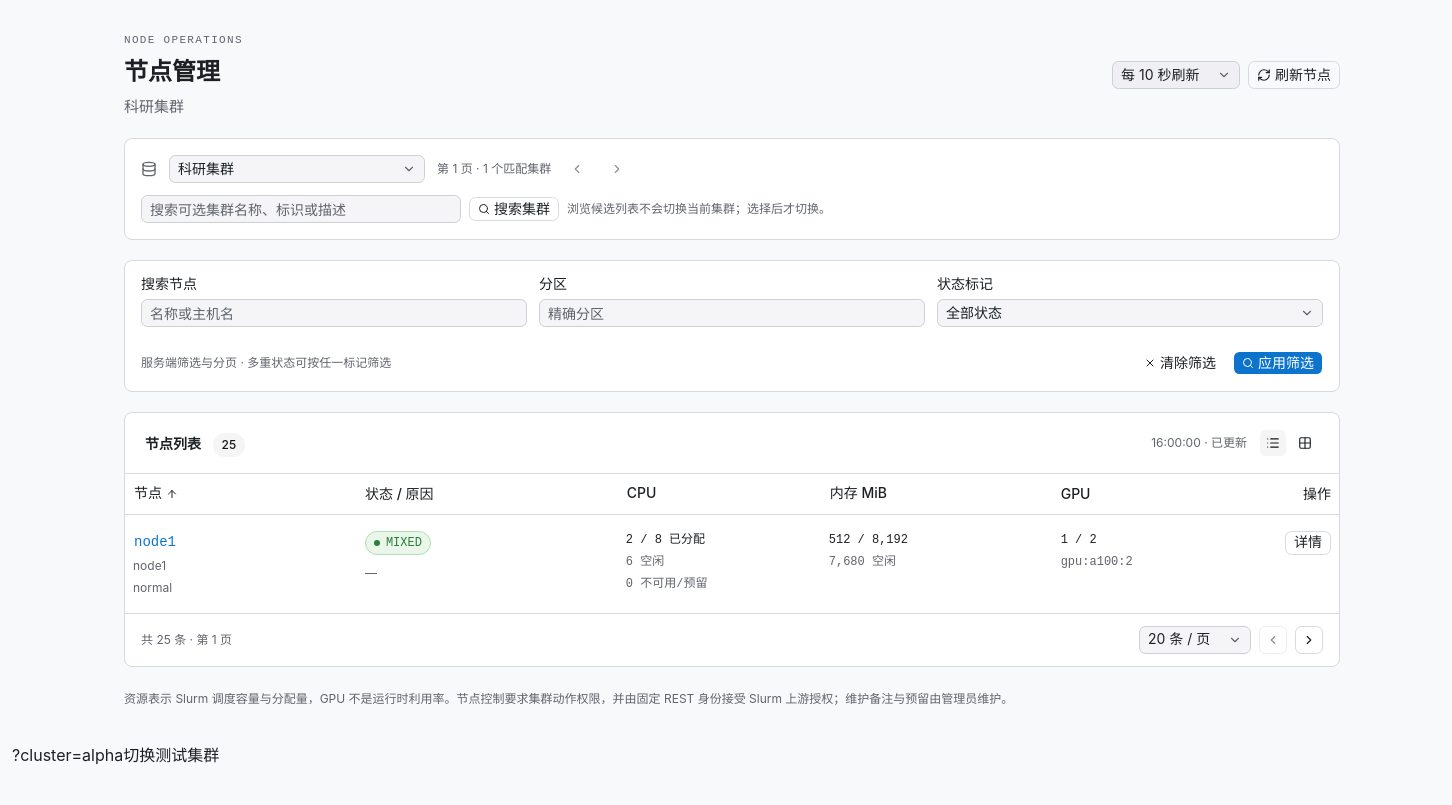
筛选、分页及矩阵视图同步 URL，Viewer 不显示控制入口
expect the button "node1" is shown: met, box [133,530,177,552]
Click the button named "下一页节点". click: [1309, 640]
box: [1295,626,1323,654]
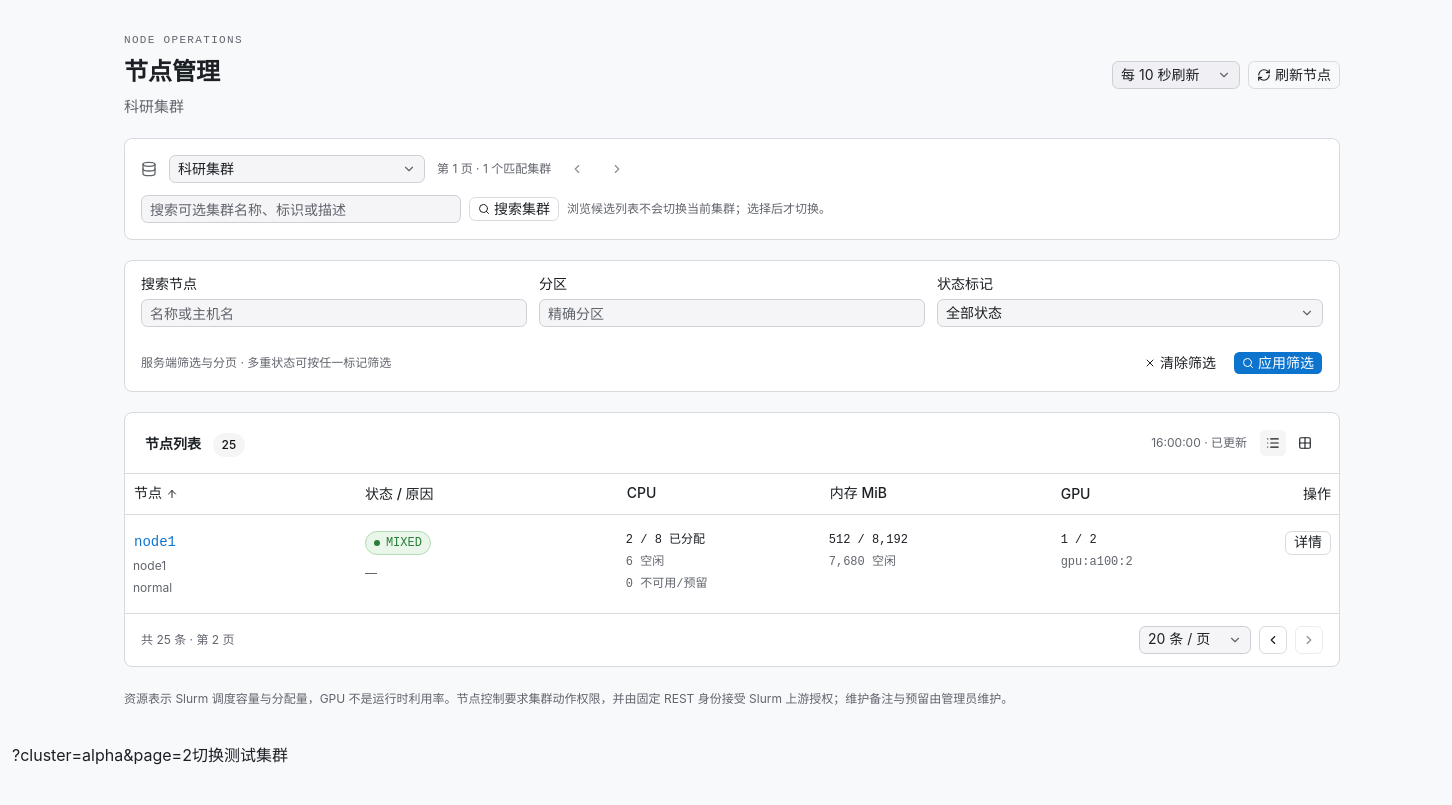
expect the text named "当前查询" shows "page=2": met, box [12,744,192,764]
Type "normal" into the field labelled "分区". click: [732, 313]
box: [539,299,925,327]
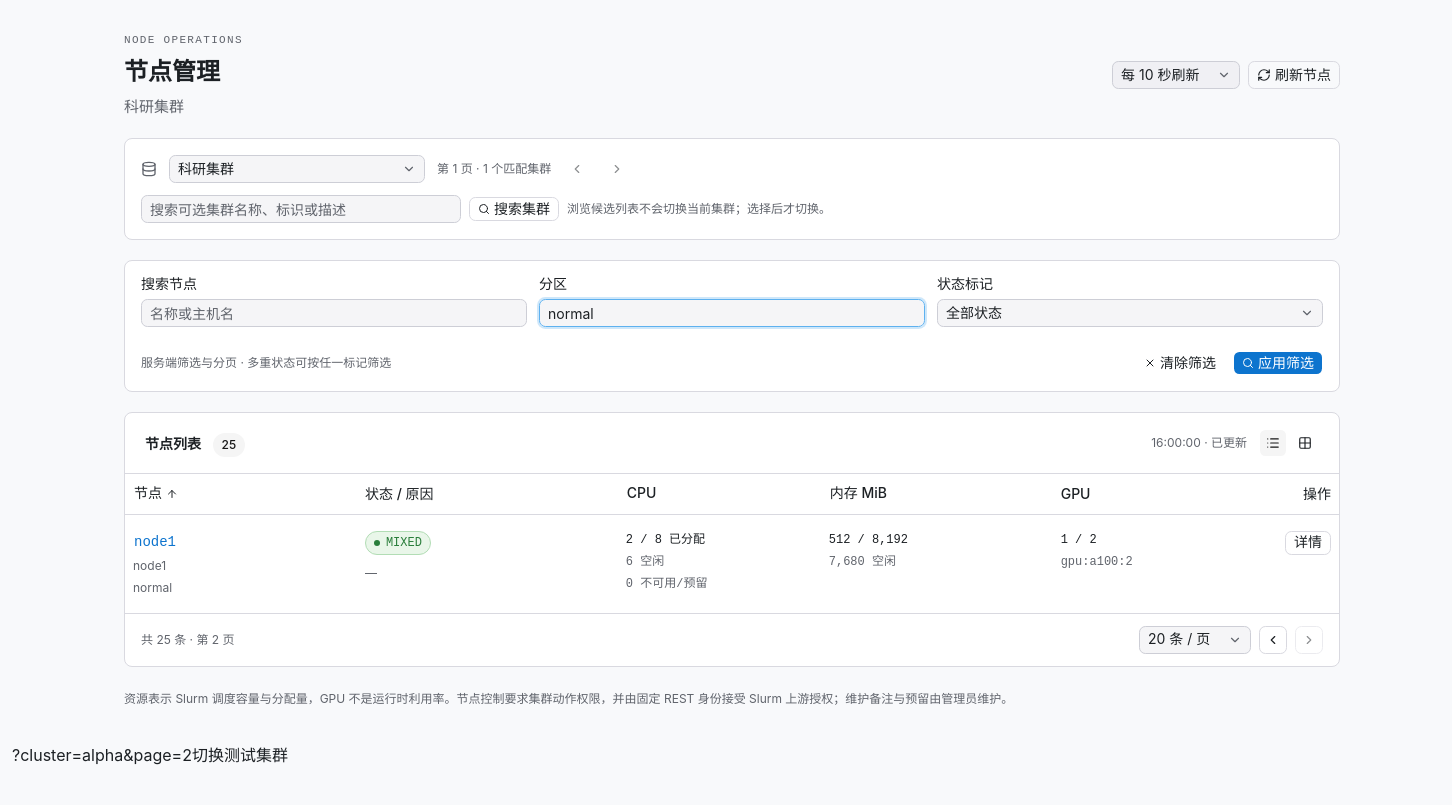
Click the button "应用筛选". click: [1278, 363]
box: [1233,351,1323,375]
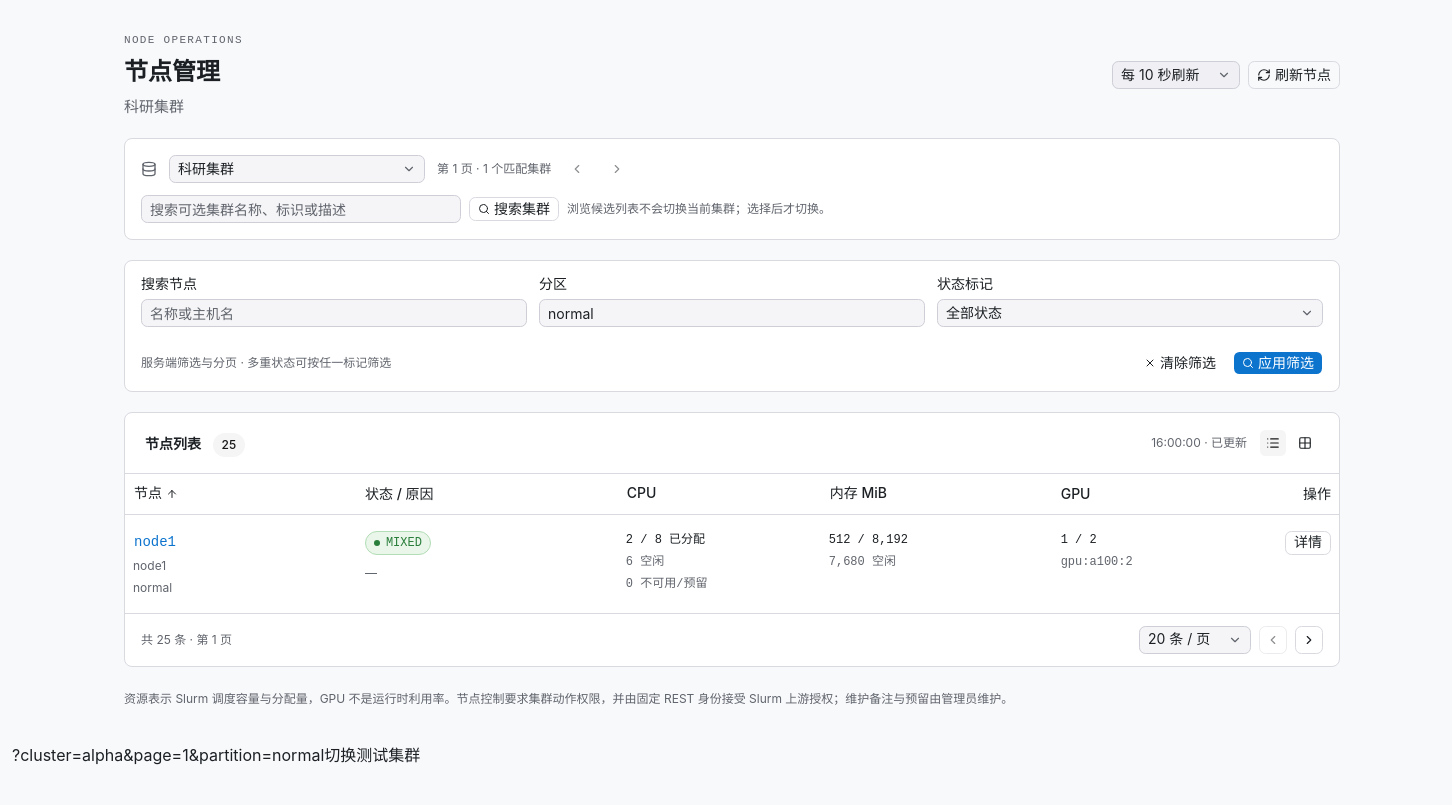
expect the text named "当前查询" shows "partition=normal": met, box [12,744,324,764]
expect the text named "当前查询" shows "page=1": met, box [12,744,324,764]
Click the button named "节点状态矩阵". click: [1305, 443]
box: [1291,429,1319,457]
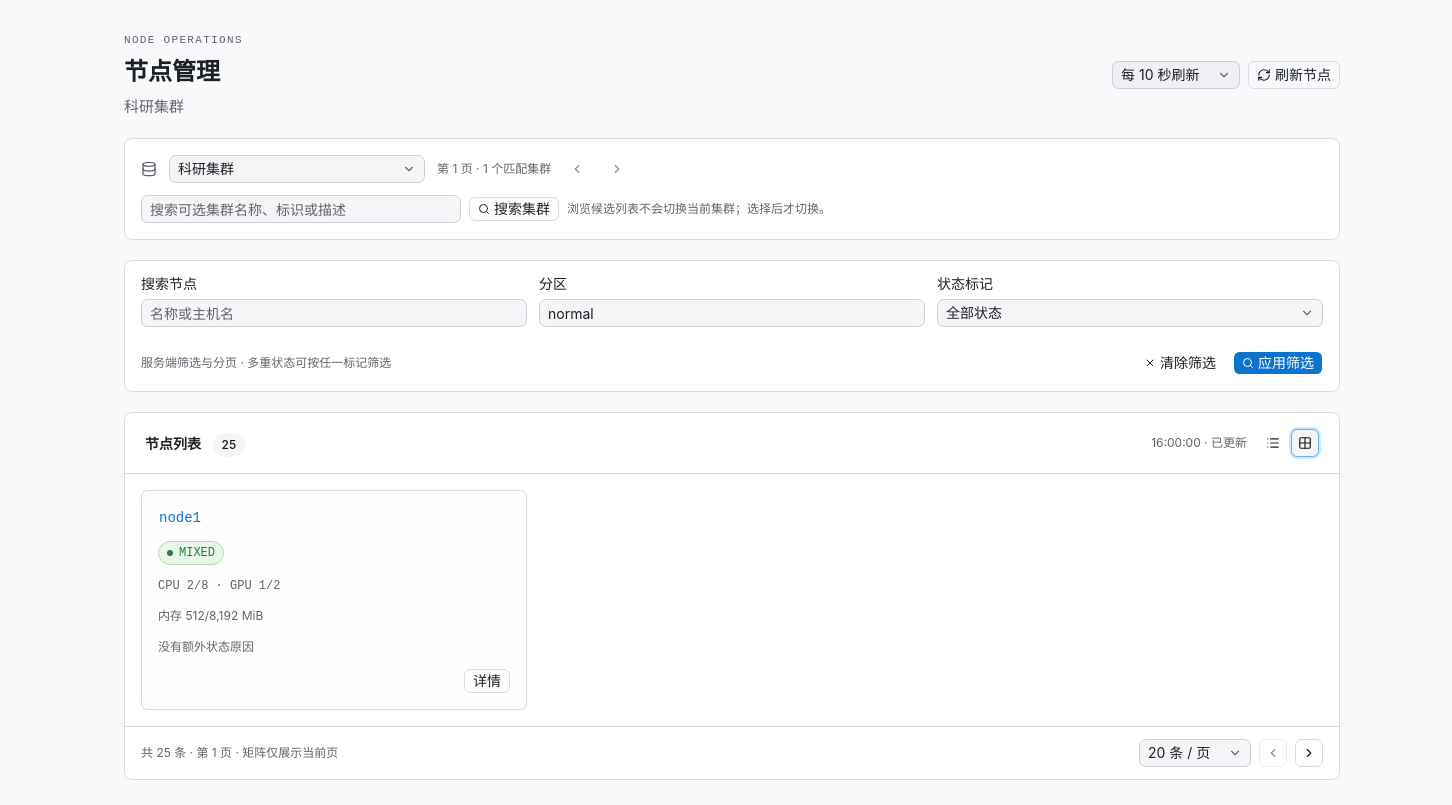
expect the element named "当前页节点状态矩阵" is shown: met, box [141,490,527,710]
expect the text "矩阵仅展示当前页" is shown: met, box [232,745,338,760]
